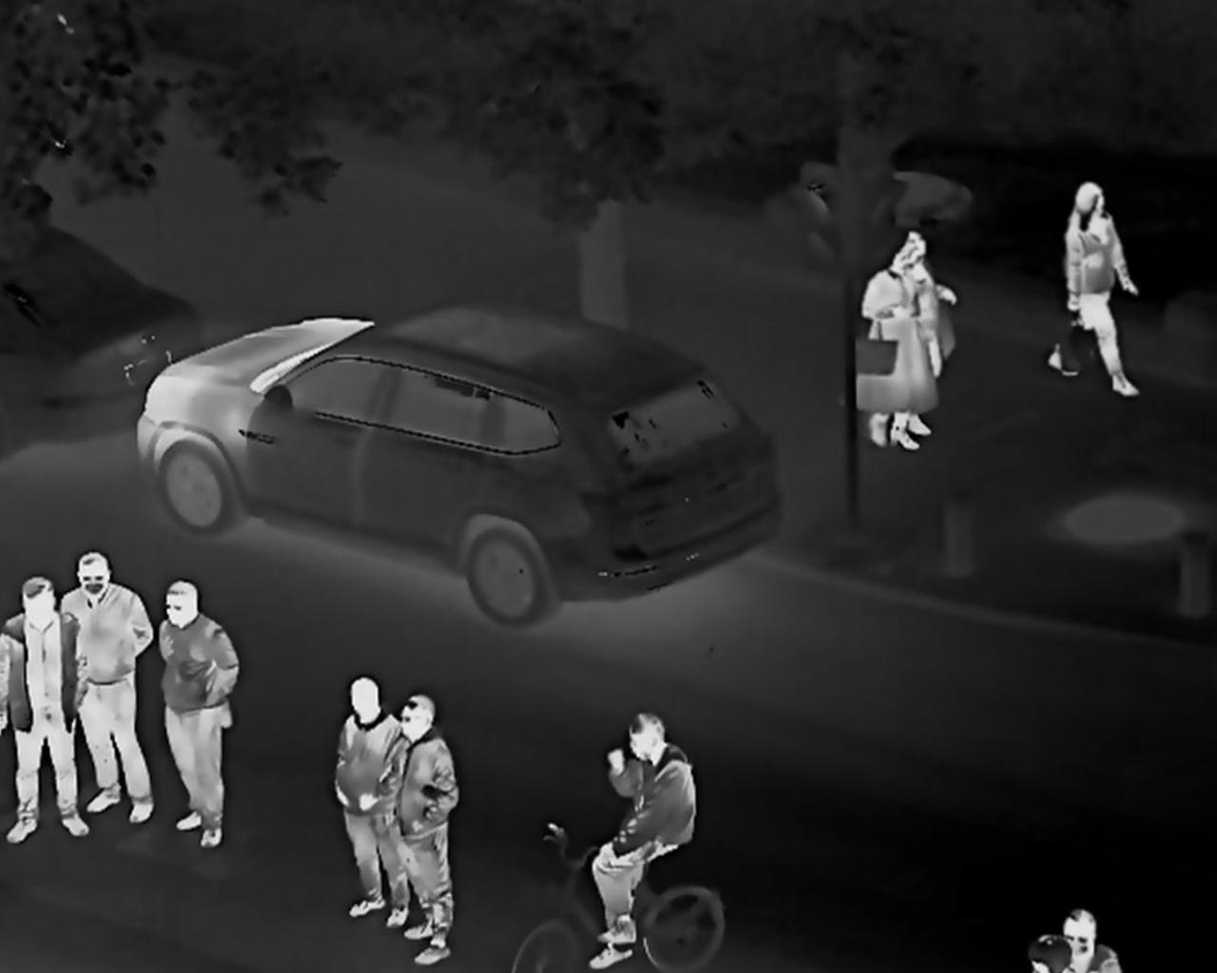person: (64, 536, 158, 854), (589, 694, 692, 964), (385, 666, 474, 963), (1049, 173, 1155, 385), (162, 575, 228, 844), (900, 226, 994, 387), (865, 256, 922, 441), (334, 666, 371, 935), (27, 563, 49, 867), (1047, 906, 1097, 973)
